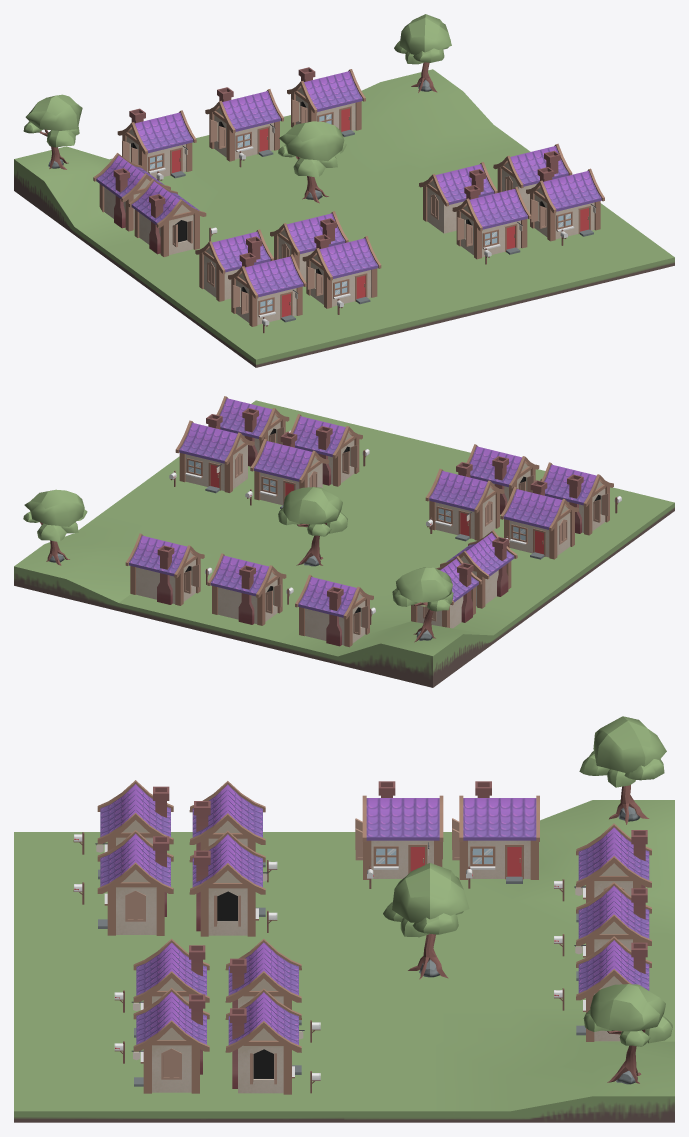
The model's file is town_scene 1.fbx.
3 renders of one model, top to bottom at view 1: azimuth 30°, elevation 25°; view 2: azimuth 150°, elevation 25°; view 3: azimuth 270°, elevation 25°, orthographic. The views are drawn at different scales.
Parts seen in each view (by area): view 1: ground, House11, House10, House12, House2, House13, House1, House5, House3, House8, House6, leaves1 (+5 smaller); view 2: ground, House7, House6, House9, House2, House3, House1, House8, House12, House10, House5, leaves1 (+6 smaller); view 3: ground, House4, House5, House13, House11, House7, House9, leaves1, House1, leaves3, House2, leaves2 (+8 smaller).
Part boxes in pixels (box(x1,y1,x2,y2)): ground: box(14, 69, 674, 367); House11: box(302, 234, 381, 308); House10: box(228, 252, 306, 326); House12: box(452, 185, 531, 259); House2: box(205, 87, 283, 161); House13: box(526, 167, 604, 241); House1: box(117, 108, 196, 178); House5: box(128, 179, 206, 256); House3: box(287, 67, 365, 136); House8: box(419, 162, 497, 233); House6: box(195, 229, 273, 301); leaves1: box(278, 121, 346, 177); ground: box(14, 400, 674, 687); House7: box(425, 462, 504, 541); House6: box(500, 480, 578, 559); House9: box(175, 414, 254, 493); House2: box(207, 553, 286, 625); House3: box(125, 533, 204, 605); House1: box(295, 574, 373, 647); House8: box(250, 432, 329, 508); House12: box(290, 414, 362, 486); House10: box(541, 462, 613, 535); House5: box(440, 530, 517, 608); leaves1: box(278, 487, 347, 536); ground: box(14, 800, 674, 1122); House4: box(452, 781, 539, 883); House5: box(355, 781, 443, 879); House13: box(131, 987, 209, 1093); House11: box(97, 830, 173, 935); House7: box(189, 830, 268, 936); House9: box(225, 988, 304, 1094); leaves1: box(383, 863, 469, 937); House1: box(574, 823, 651, 922); leaves3: box(579, 716, 666, 787); House2: box(574, 882, 651, 980); leaves2: box(583, 984, 672, 1046).
Bounding box in the file's own units: 15.71 × 3.6 × 15.48.
Materials: 1 (1 with a texture image).
